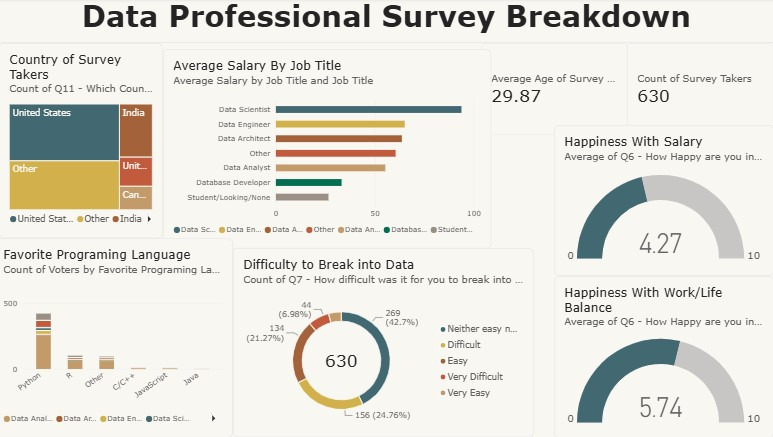

Layout of this report page (visuals, bound fields, positions):
{"tool":"powerbi","page":{"name":"Page 1","canvas":[1280,720],"ordinal":0},"visuals":[{"type":"textbox","box":[10.1,0,1269.9,73.9],"z":0},{"type":"cardVisual","fields":{"Data":["Count(Data Professional Survey.Unique ID)"]},"box":[1039.8,73.9,240.2,151.2],"z":1000},{"type":"cardVisual","fields":{"Data":["Avg(Data Professional Survey.Q10 - Current Age)"]},"box":[799.6,73.9,240.2,151.2],"z":2000},{"type":"barChart","title":"Average Salary By Job Title","fields":{"Category":["Data Professional Survey.Q1 - Which Title Best Fits your Current Role?.1"],"Y":["Avg(Data Professional Survey.Average Salary)"],"Series":["Data Professional Survey.Q1 - Which Title Best Fits your Current Role?.1"]},"box":[278.3,83.3,538.3,326.7],"z":3000},{"type":"columnChart","title":"Favorite Programing Language","fields":{"Category":["Data Professional Survey.Q5 - Favorite Programming Language.1"],"Y":["CountNonNull(Data Professional Survey.Unique ID)"],"Series":["Data Professional Survey.Q1 - Which Title Best Fits your Current Role?.1"]},"box":[0,393.3,393.3,326.7],"z":4000},{"type":"treemap","title":"Country of Survey Takers","fields":{"Group":["Data Professional Survey.Q11 - Which Country do you live in?.1"],"Values":["CountNonNull(Data Professional Survey.Q11 - Which Country do you live in?.1)"]},"box":[10,73.3,268.3,320],"z":5000},{"type":"gauge","title":"Happiness With Work/Life Balance","fields":{"Y":["Avg(Data Professional Survey.Q6 - How Happy are you in your Current Position with the following? (Work/Life Balance))"],"MinValue":["Min(Data Professional Survey.Q6 - How Happy are you in your Current Position with the following? (Work/Life Balance))"],"MaxValue":["Max(Data Professional Survey.Q6 - How Happy are you in your Current Position with the following? (Work/Life Balance))"]},"box":[920,455,360,265],"z":6000},{"type":"gauge","title":"Happiness With Salary","fields":{"Y":["Avg(Data Professional Survey.Q6 - How Happy are you in your Current Position with the following? (Salary))"],"MinValue":["Min(Data Professional Survey.Q6 - How Happy are you in your Current Position with the following? (Salary))"],"MaxValue":["Max(Data Professional Survey.Q6 - How Happy are you in your Current Position with the following? (Salary))"]},"box":[920,208.3,360,246.7],"z":7000},{"type":"donutChart","title":"Difficulty to Break into Data","fields":{"Category":["Data Professional Survey.Q7 - How difficult was it for you to break into Data?"],"Y":["CountNonNull(Data Professional Survey.Q7 - How difficult was it for you to break into Data?)"]},"box":[393.3,410,493.3,310],"z":8000}]}

Visuals, with their boxes in screenshot pixels (x1, y1, x2, y2), scaled from the page's 1280x720 canvas onto the 773x437 screenshot:
textbox: 6,0,772,45
cardVisual - Count(Data Professional Survey.Unique ID): 628,45,772,137
cardVisual - Avg(Data Professional Survey.Q10 - Current Age): 483,45,628,137
"Average Salary By Job Title" barChart: 168,51,493,249
"Favorite Programing Language" columnChart: 0,239,238,436
"Country of Survey Takers" treemap: 6,44,168,239
"Happiness With Work/Life Balance" gauge: 556,276,772,436
"Happiness With Salary" gauge: 556,126,772,276
"Difficulty to Break into Data" donutChart: 238,249,535,436
